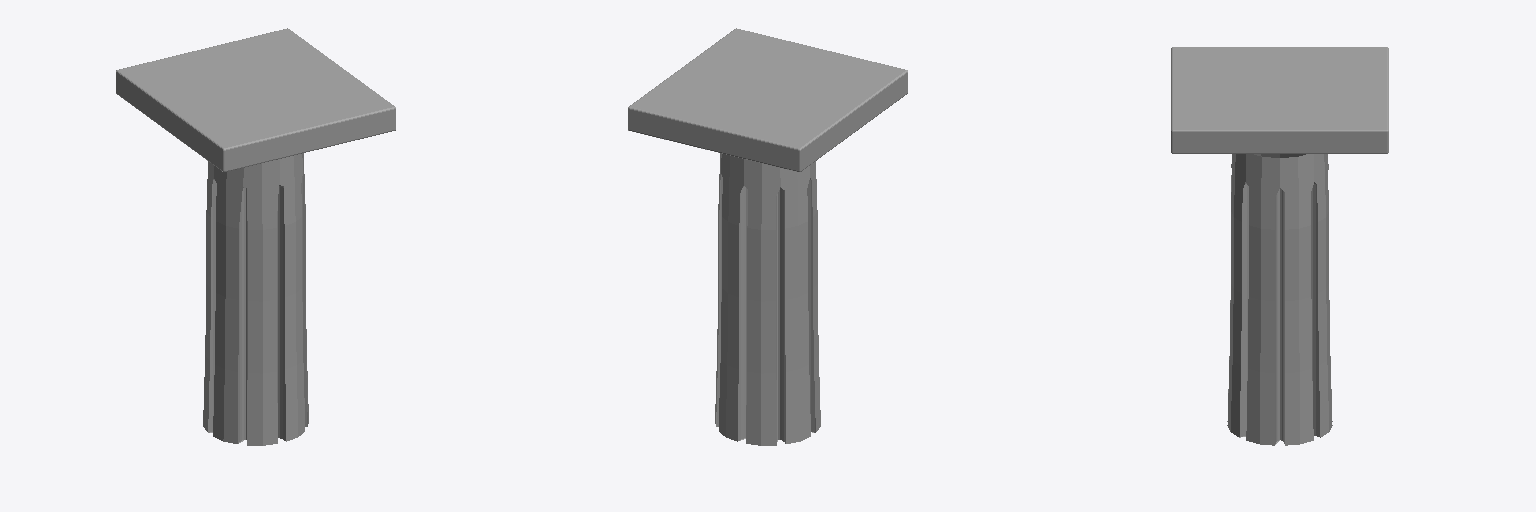
Rendered from columna.obj.
3 views of the same model, side by side, from view 1: azimuth 30°, elevation 25°; view 2: azimuth 150°, elevation 25°; view 3: azimuth 270°, elevation 25° (orthographic).
Parts seen in each view (by area): view 1: Cube, Cylinder, Capsule_7, Capsule_0, Capsule_6, Capsule_1; view 2: Cube, Cylinder, Capsule_5, Capsule_4, Capsule_6, Capsule_3; view 3: Cube, Cylinder, Capsule_2, Capsule_1, Capsule_3.
Boxes of the visible parts, box(x1,y1,x2,y2) form: Cube: box(116, 28, 395, 171); Cylinder: box(203, 153, 308, 445); Capsule_7: box(238, 187, 247, 443); Capsule_0: box(277, 185, 285, 440); Capsule_6: box(208, 179, 216, 432); Capsule_1: box(301, 176, 307, 426); Cube: box(628, 28, 907, 171); Cylinder: box(715, 153, 820, 445); Capsule_5: box(776, 187, 785, 443); Capsule_4: box(738, 186, 747, 440); Capsule_6: box(807, 178, 815, 432); Capsule_3: box(716, 174, 722, 426); Cube: box(1171, 47, 1388, 153); Cylinder: box(1227, 154, 1332, 445); Capsule_2: box(1275, 188, 1284, 443); Capsule_1: box(1239, 182, 1248, 437); Capsule_3: box(1311, 182, 1320, 437).
Bounding box in the file's own units: 32.83 × 60.6 × 35.64.